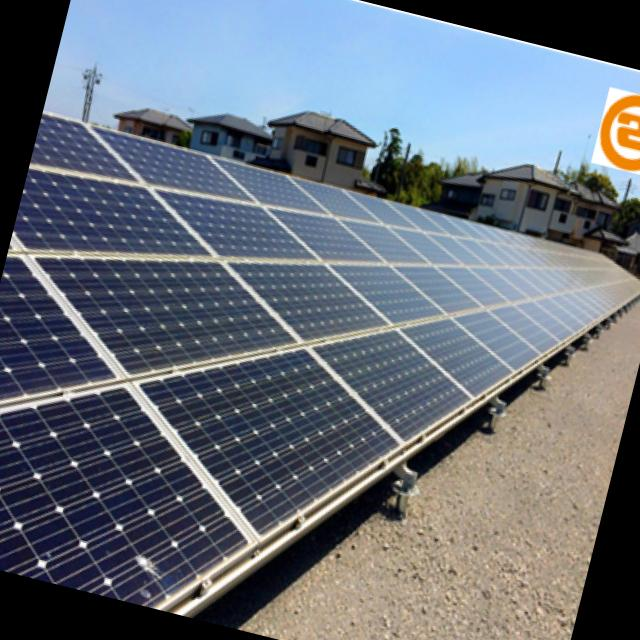faulty: (0, 115, 500, 606)
